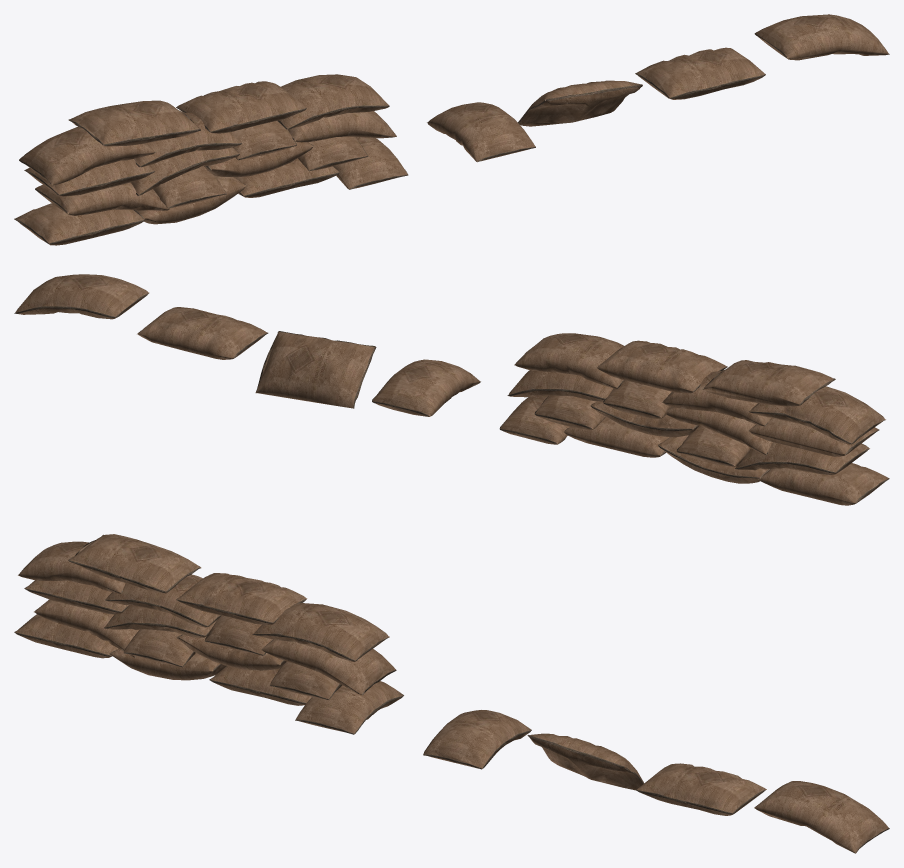
File: prop_sandbags.glb
3 renders of one model, top to bottom at view 1: azimuth 30°, elevation 25°; view 2: azimuth 150°, elevation 25°; view 3: azimuth 330°, elevation 25°, orthographic.
Parts seen in each view (by area): view 1: Cube_5_Mat_0; view 2: Cube_5_Mat_0; view 3: Cube_5_Mat_0.
Part boxes in pixels (bbox=[...]): Cube_5_Mat_0: bbox=[14, 14, 889, 245]; Cube_5_Mat_0: bbox=[14, 274, 889, 505]; Cube_5_Mat_0: bbox=[14, 534, 889, 853].
Bounding box in the file's own units: 8 × 1.24 × 0.8344.
1 material, 1 textured.
